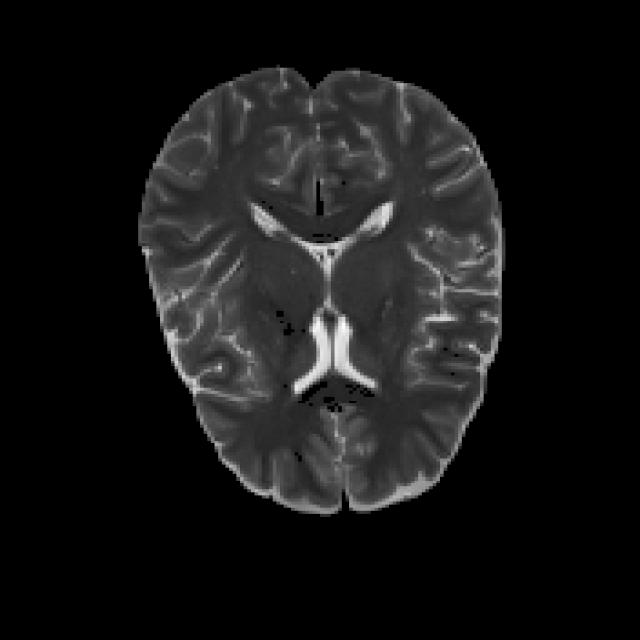parkinson: (134, 61, 506, 514)
